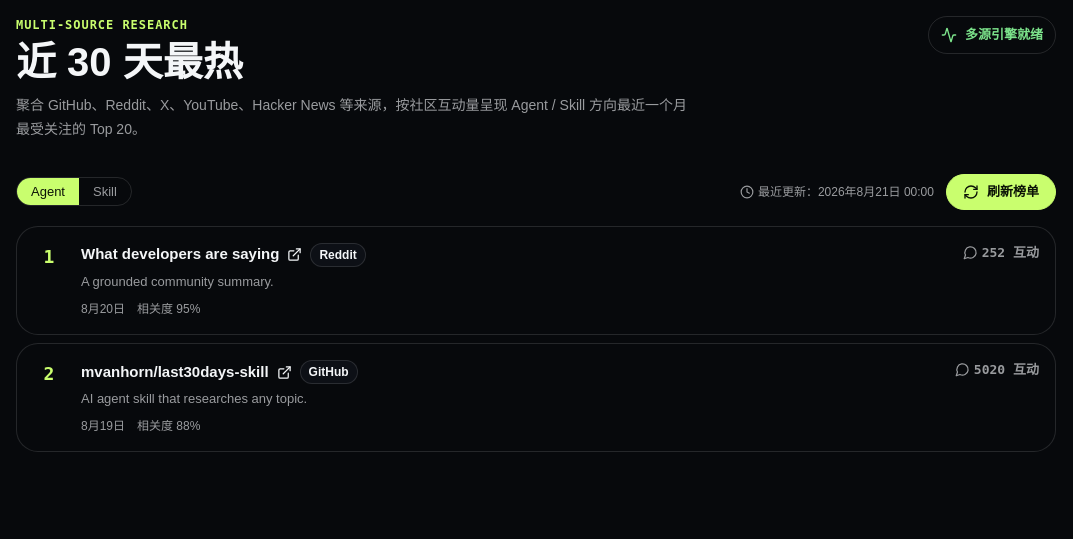
Last30DaysView › shows an error notice when the refresh fails
Click the button with test id "refresh-ranking" at (1001, 192), box 946,174 -> 1056,210
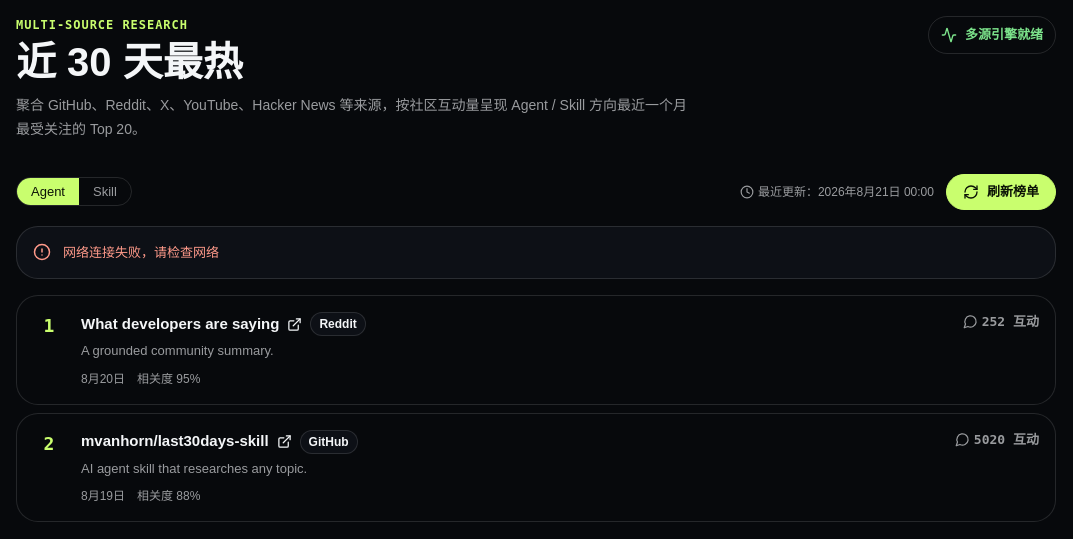
Now the text "网络连接失败，请检查网络" is shown, box 63,243 -> 219,262
